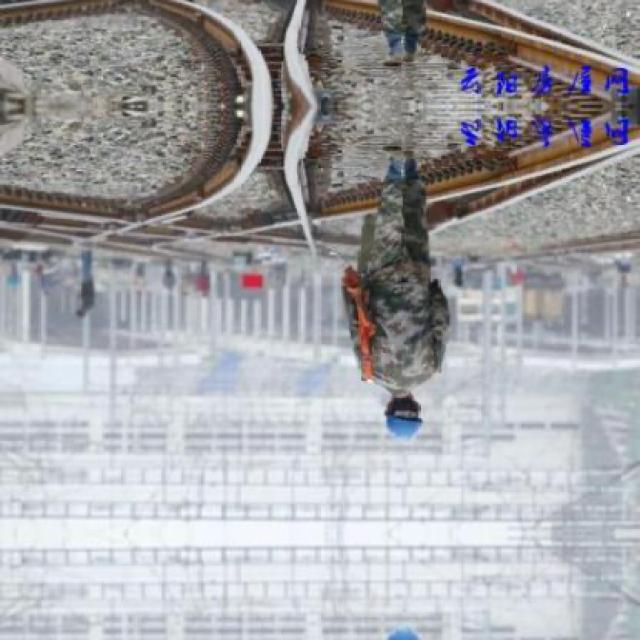con casco: (366, 360, 438, 452)
